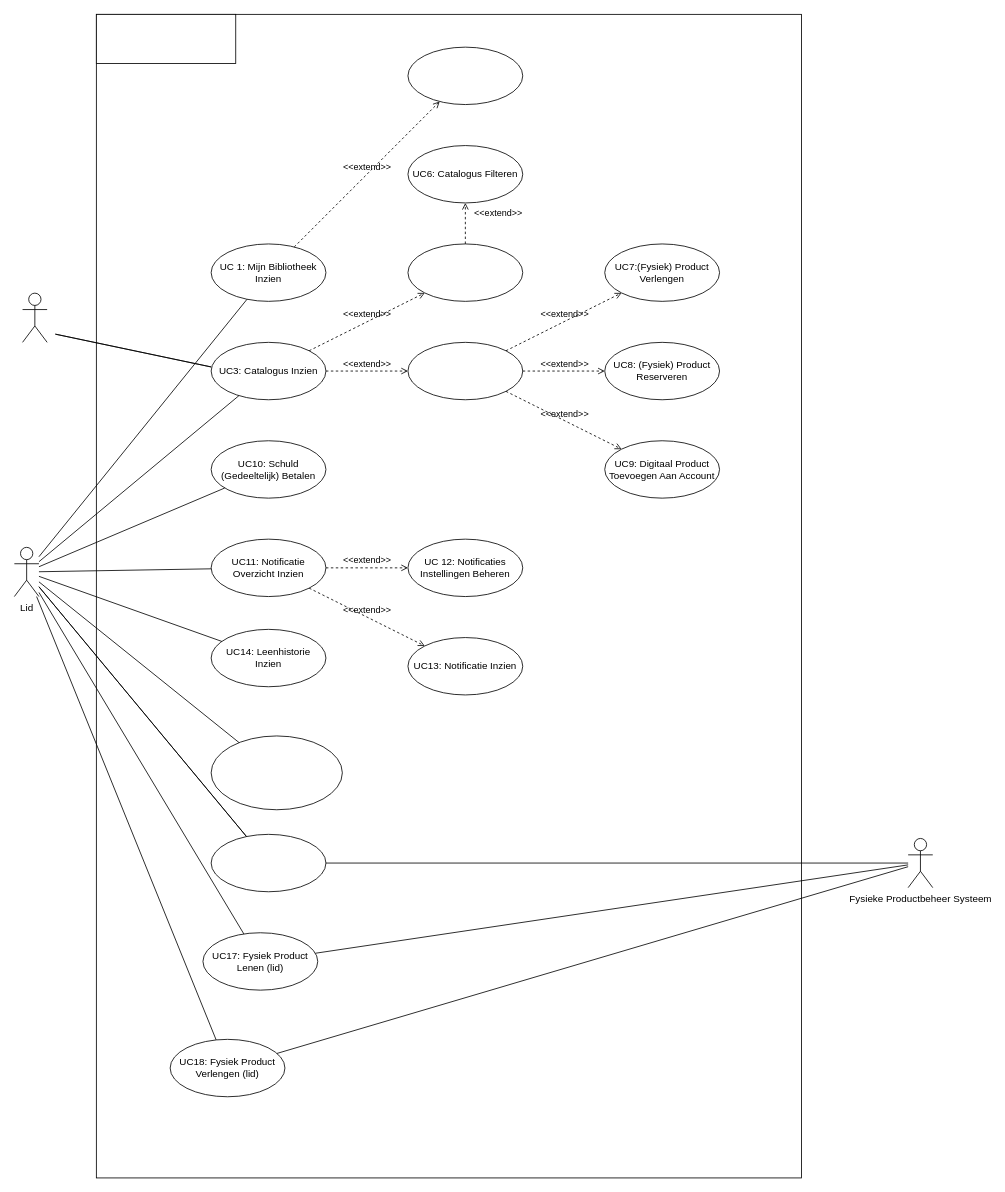
The diagram is 1005 pixels wide and 1192 high, and some of its shapes have lost their labels. The centre of each missing label's shape, as x and y in pixels:
Bezoeker: the point at 34,317
Bibiiotheekbeheersysteem vanuit oogpunt lid: the point at 166,39
UC15: (Extra) Abonnement aanschaffen / verwijderen: the point at 276,772
UC16: Fysiek Product Terugbrengen (lid): the point at 268,863
UC2: Digitaal Product Consumeren: the point at 465,75
UC4: Catalogus Zoeken: the point at 465,272
UC5: Product Inzien: the point at 465,371
